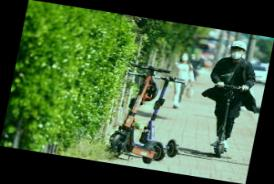helmet: (191, 35, 268, 163)
